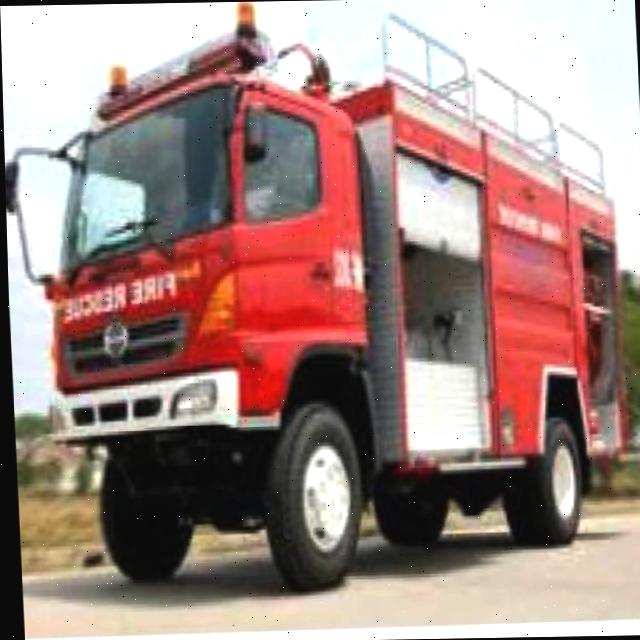emergency: (0, 0, 636, 595)
